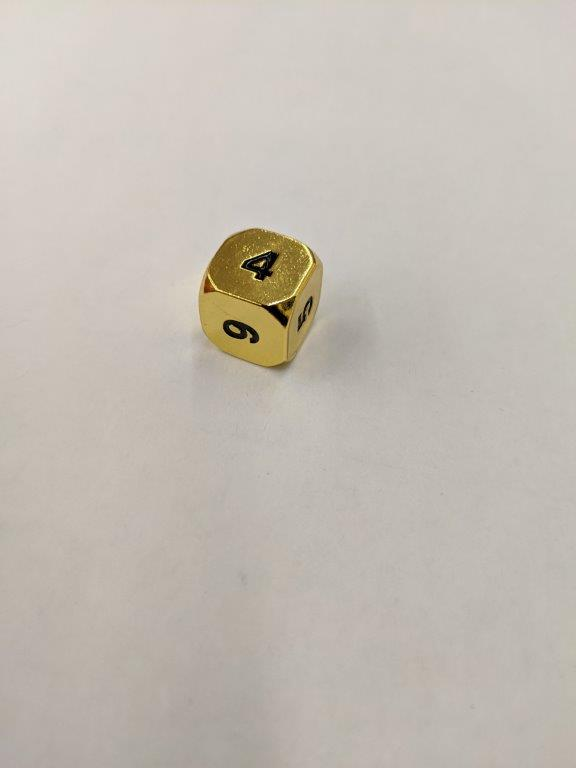d6-4: (198, 227, 325, 369)
